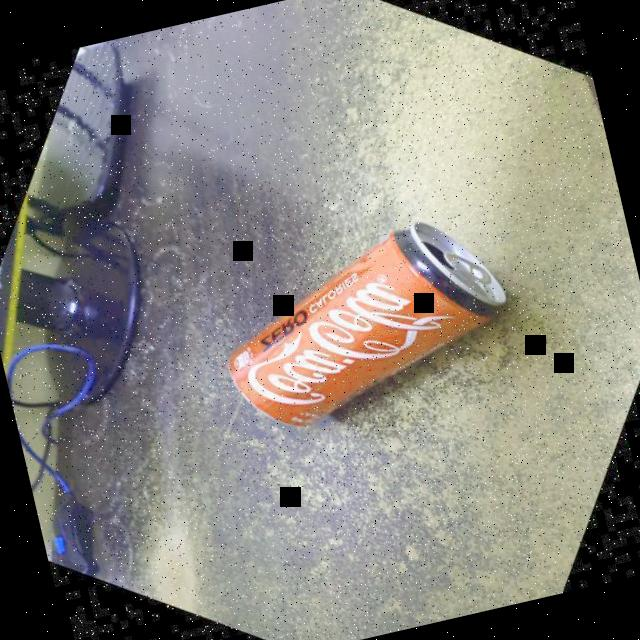can: (200, 192, 572, 442)
